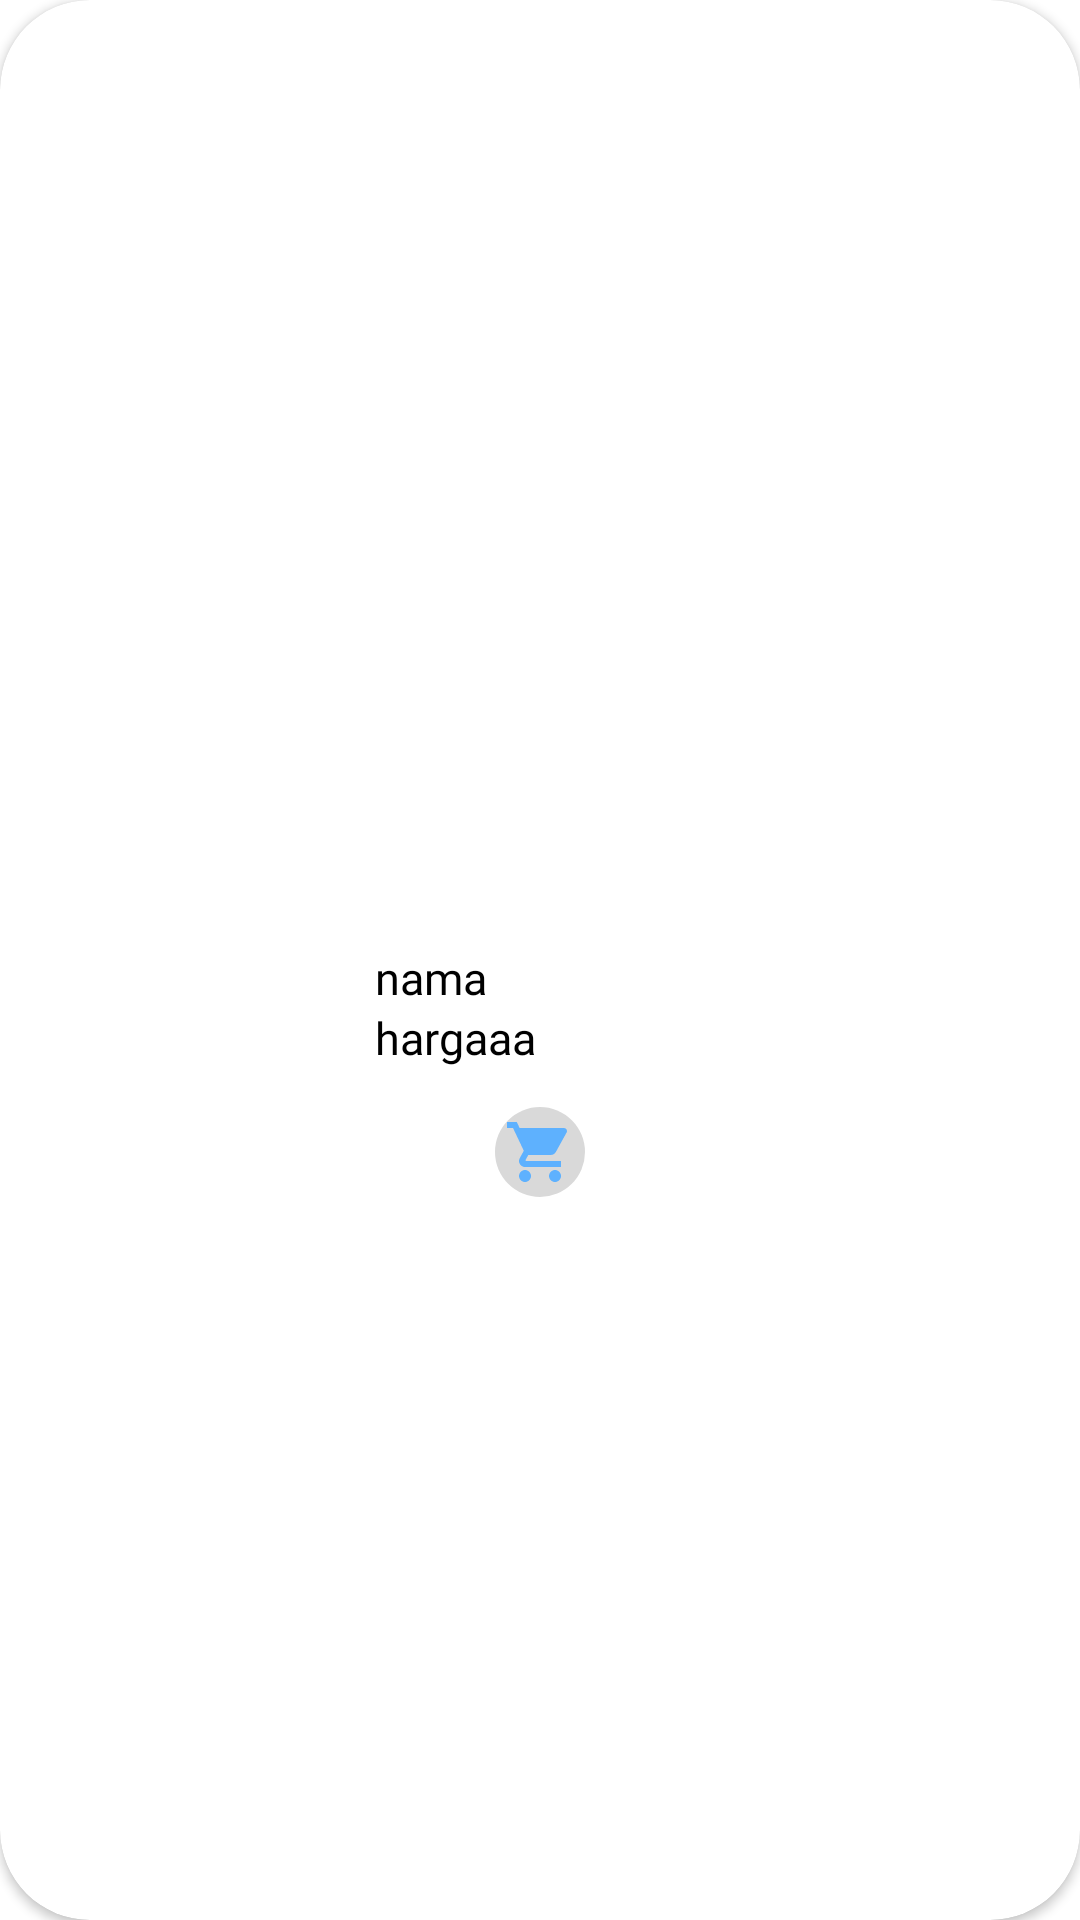

Named icons in this screenshot (1080 × 1920) and their centers, (x,y):
shopping cart: (540,1152)
